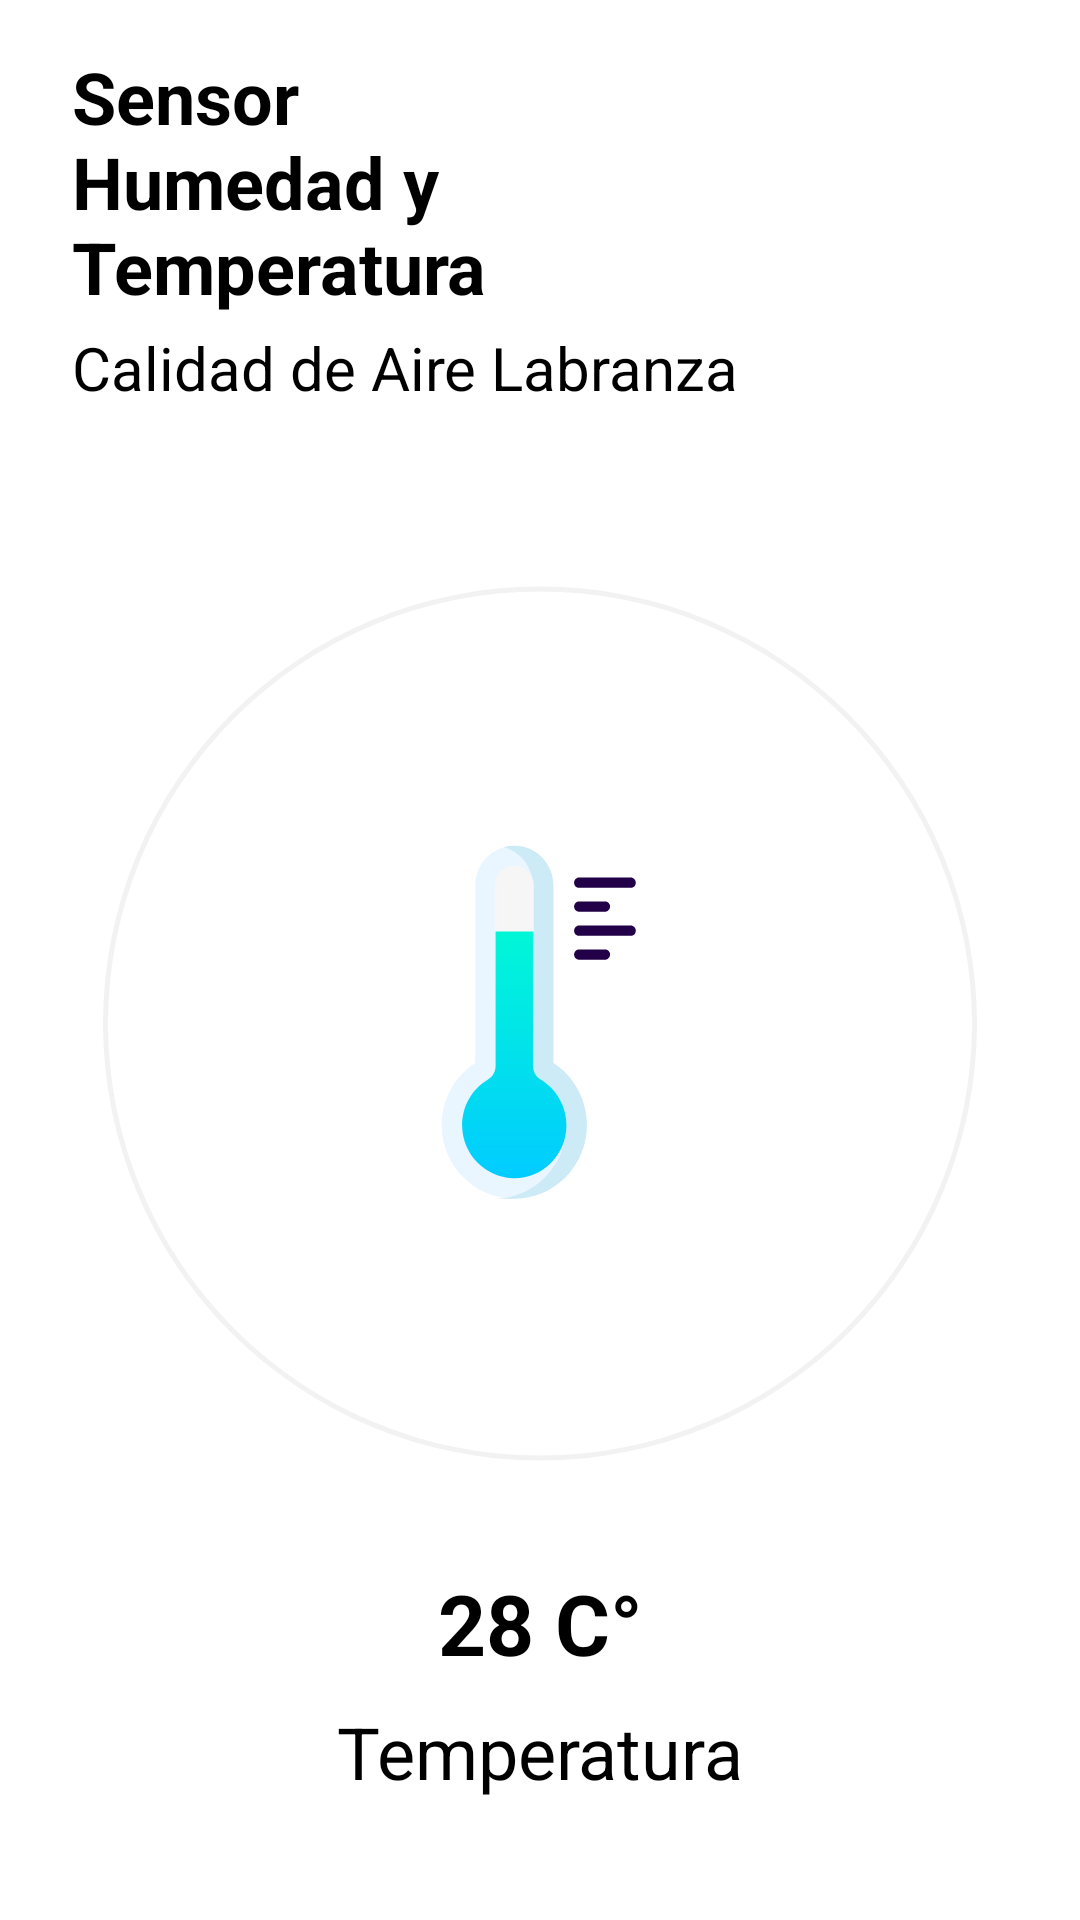

Screen size 1080*1920. Icon name, then its box in pixels as (x1, y1, x2, y2):
temperatura: (462, 846, 636, 1199)
